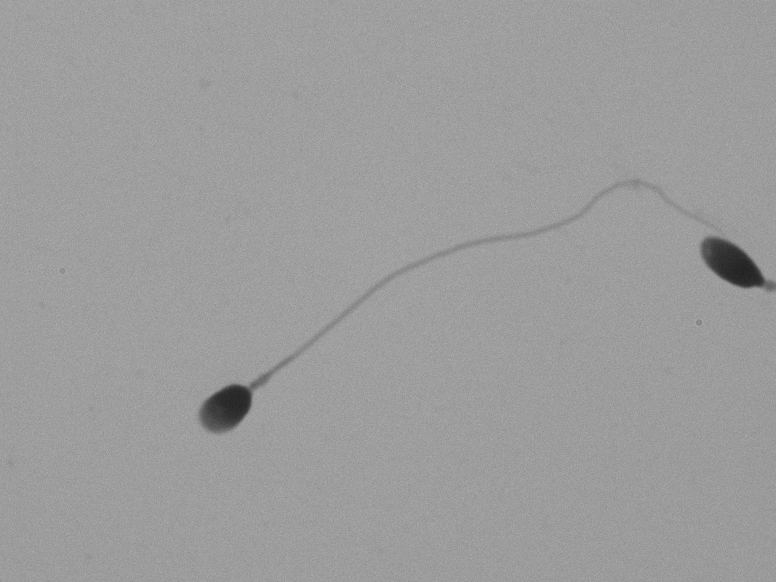Abnormal: (694, 164, 772, 378)
Normal: (129, 134, 680, 458)
